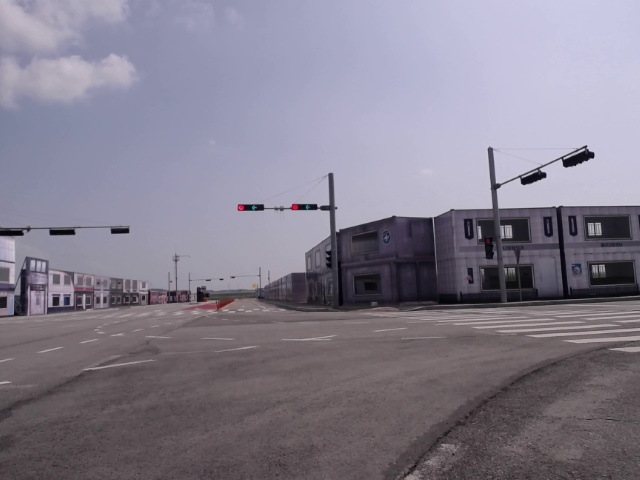left_green_4: (293, 204, 316, 211), (238, 205, 264, 211)
